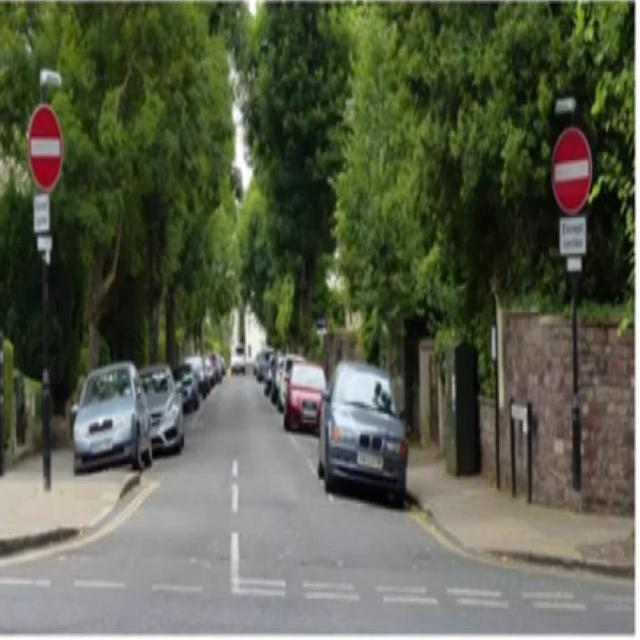No_entry: (552, 127, 591, 214), (27, 102, 64, 188)
